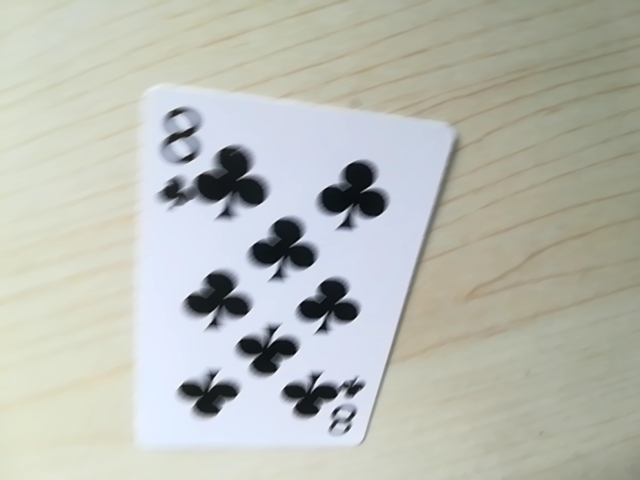mh 8: (145, 94, 208, 216), (317, 385, 368, 442)
